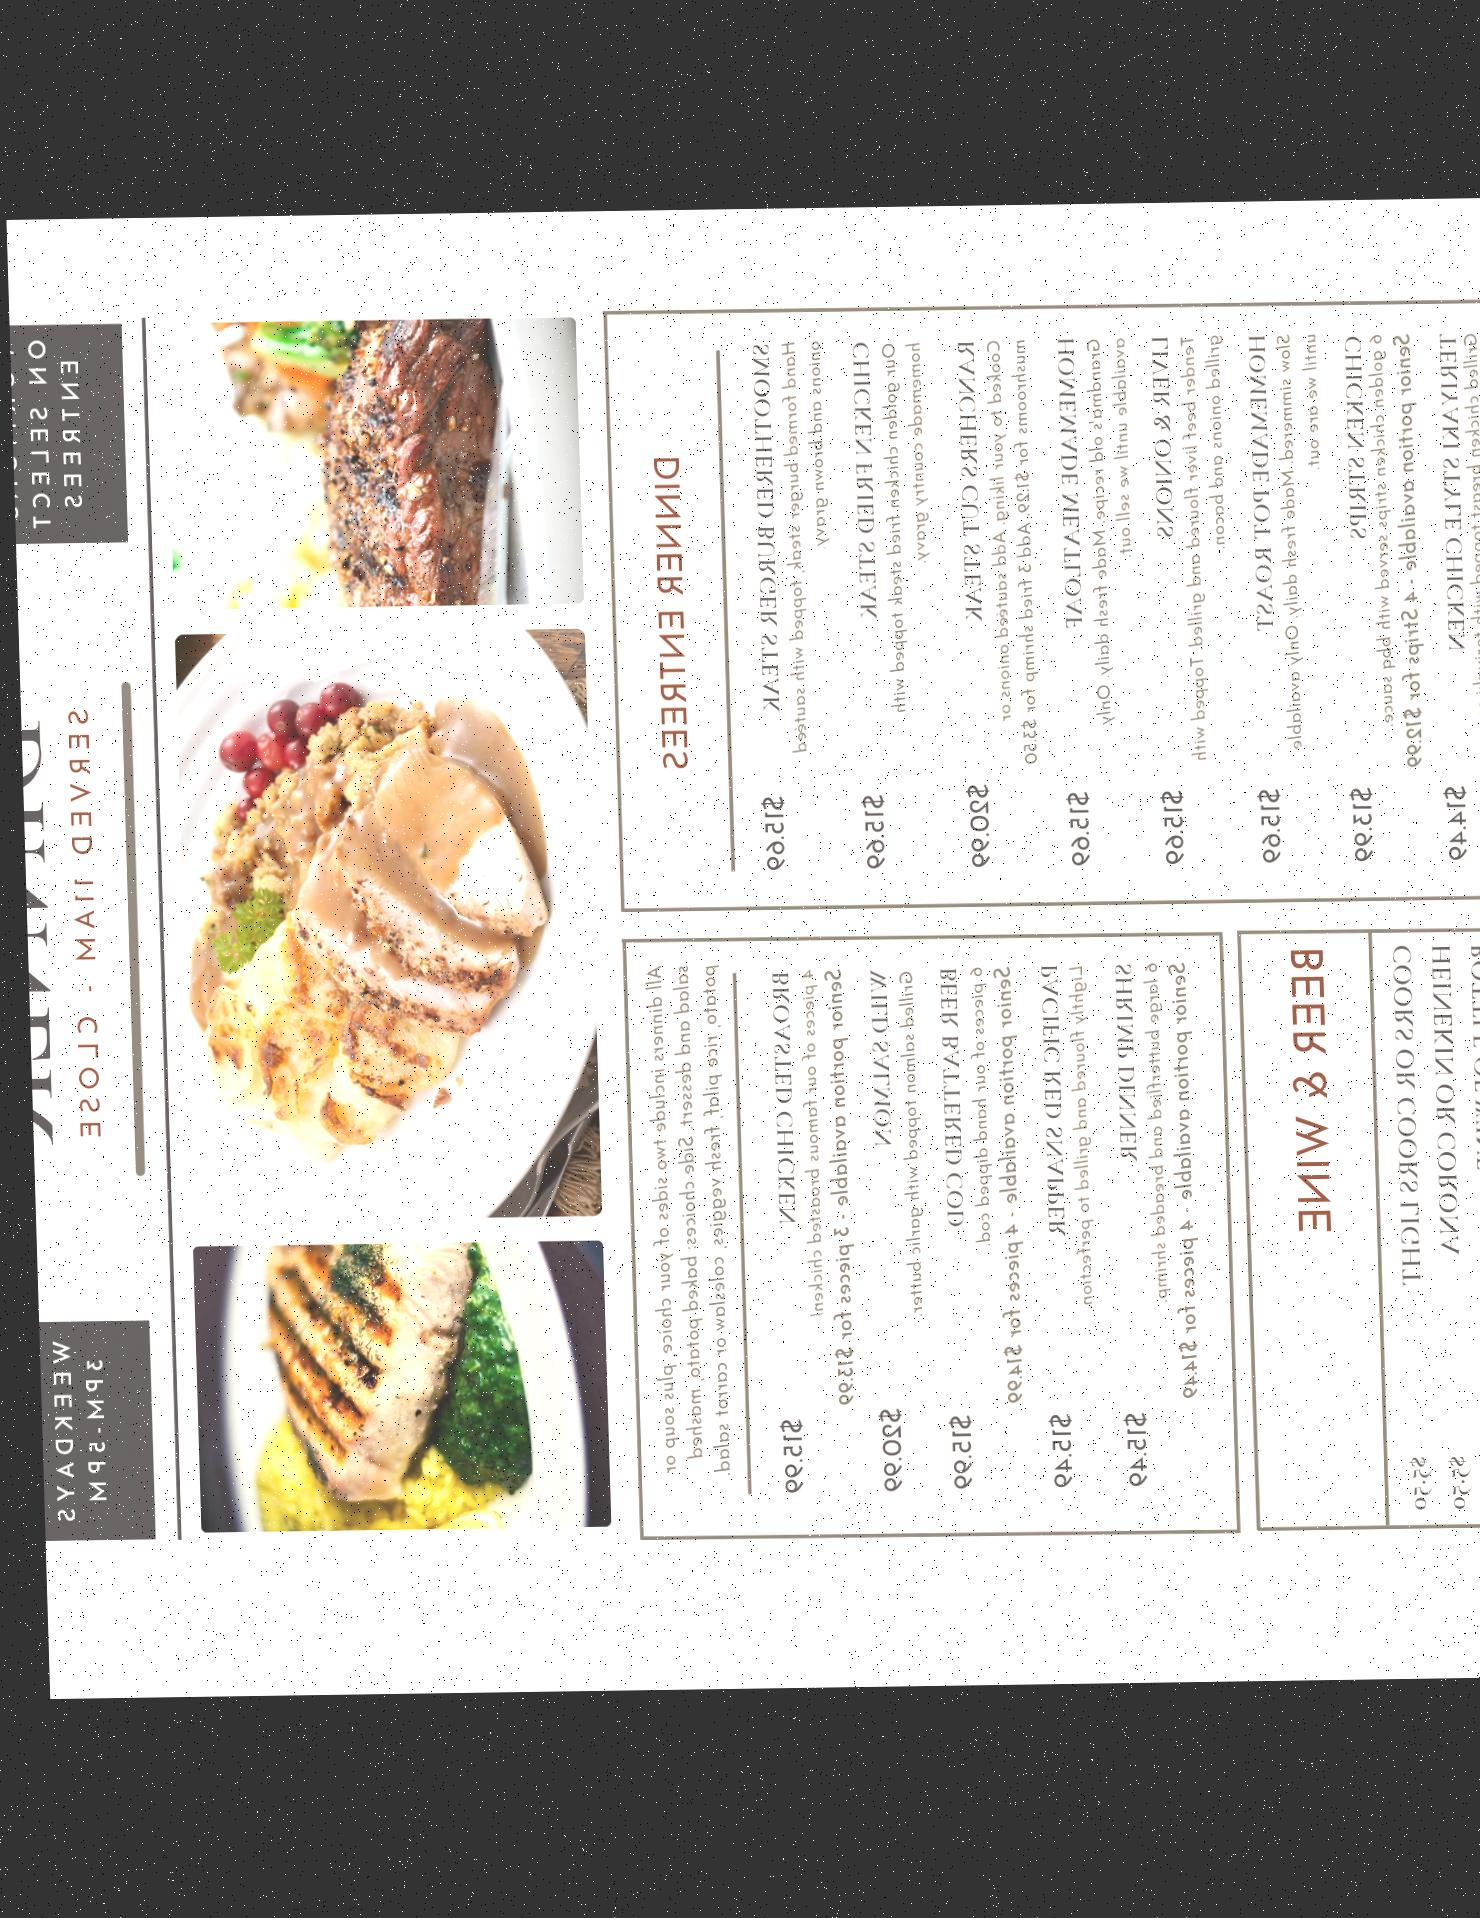Menu-Items: (1091, 945, 1205, 1517), (751, 950, 860, 1511), (1133, 328, 1239, 884), (947, 337, 1048, 898), (923, 957, 1024, 1511), (835, 340, 936, 891), (1234, 319, 1331, 880), (1335, 320, 1427, 881), (737, 340, 832, 881), (1043, 333, 1135, 886), (849, 951, 930, 1517), (1021, 953, 1093, 1509), (1424, 328, 1480, 886)
